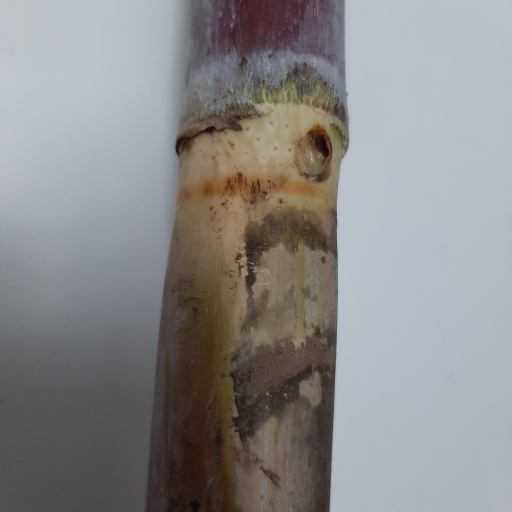Bud: (296, 128, 334, 181)
